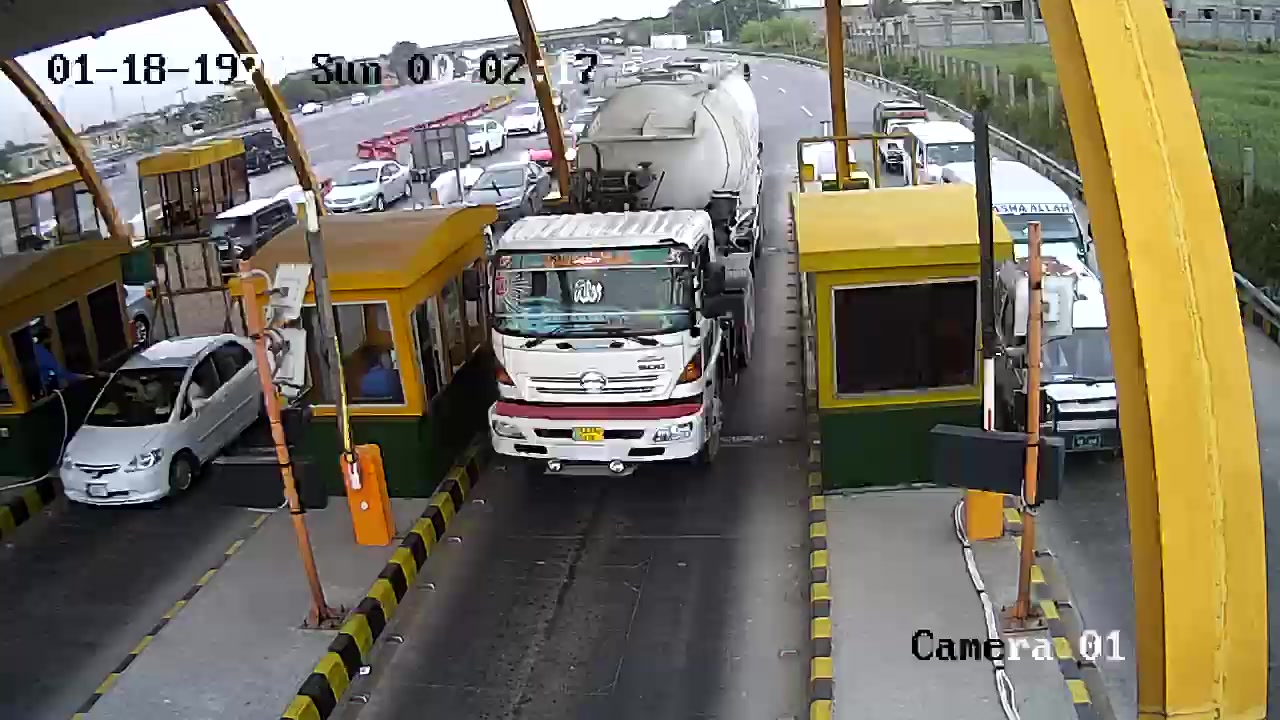F6: (490, 59, 768, 506)
